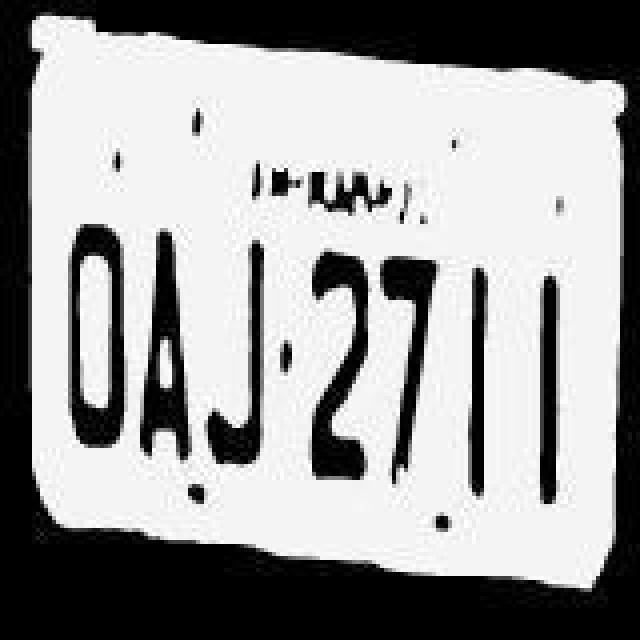1: (522, 222, 574, 498), (454, 256, 506, 504)
2: (304, 228, 376, 492)
7: (372, 240, 444, 496)
A: (128, 222, 200, 474)
J: (210, 242, 286, 494)
O: (58, 216, 134, 472)
